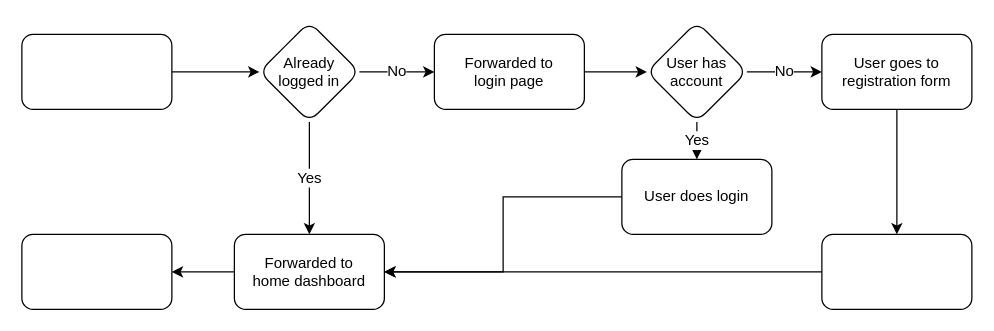
This 994x331 diagram has some shape labels left out. Each missing label, with the centre of its shape:
"Done" goes at point 96,271.
"User opens plantparent.ch" goes at point 96,71.
"User registers" goes at point 896,271.
